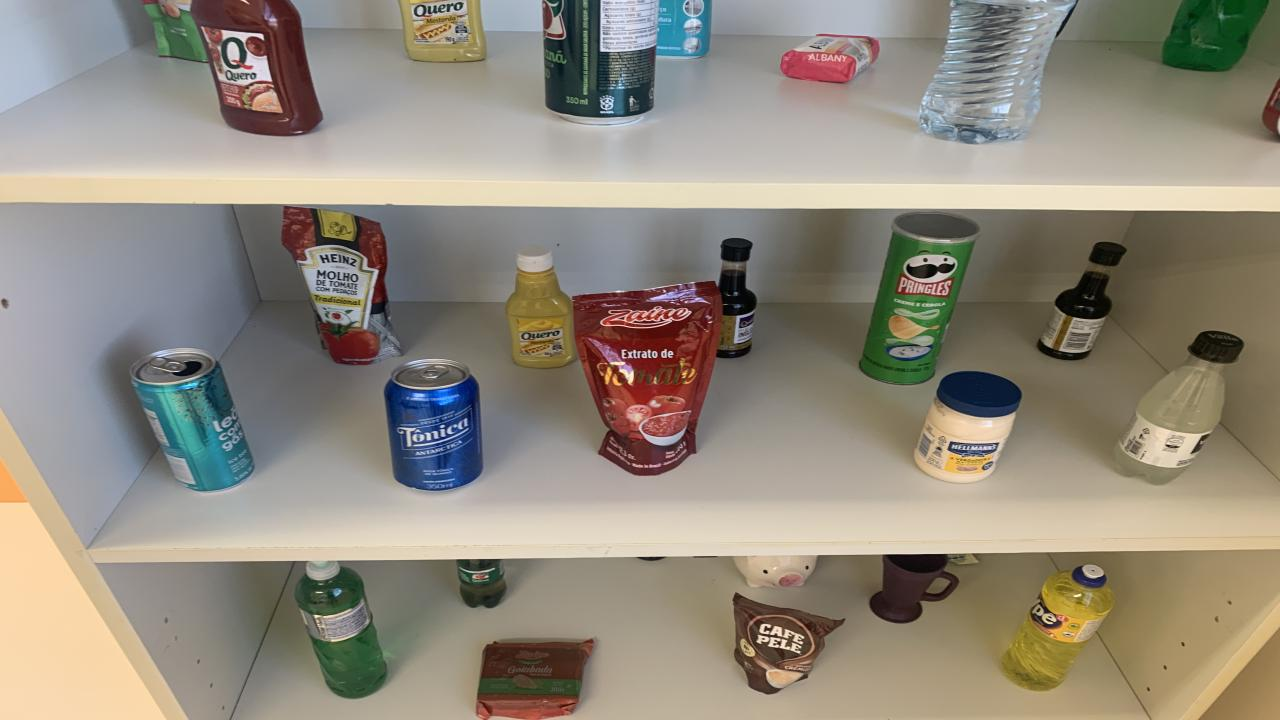Cleaner-Cleanup_Items: (655, 0, 712, 58)
Coffee-Pantry_Items: (732, 592, 845, 694)
Detergent-Cleanup_Items: (1002, 564, 1115, 690), (295, 561, 388, 698), (1162, 0, 1268, 71)
English_Sauce-Pantry_Items: (1038, 242, 1128, 360), (718, 238, 758, 358)
Guarana-Drinks: (458, 559, 508, 608)
Guarana_Can-Drinks: (542, 0, 658, 122)
Guava-Snacks: (475, 639, 592, 718)
Ketchup-Pantry_Items: (190, 0, 322, 135)
Mayonnaise-Pantry_Items: (915, 371, 1022, 484)
Mustard-Pantry_Items: (505, 246, 575, 368), (398, 0, 488, 62)
Pig_Safe-Miscellaneous: (732, 555, 818, 587)
Pringles-Snacks: (860, 212, 978, 384)
Soap-Cleanup_Items: (780, 34, 880, 82)
Soda-Drinks: (1115, 330, 1242, 484)
Tea-Drinks: (130, 347, 255, 491)
Tomato_Sauce-Pantry_Items: (572, 281, 722, 476), (282, 206, 400, 366), (142, 0, 208, 62)
Tonic-Drinks: (385, 358, 482, 491)
Tuna_Can-Pantry_Items: (1262, 79, 1280, 135)
Water_Bottle-Drinks: (920, 0, 1075, 144)
